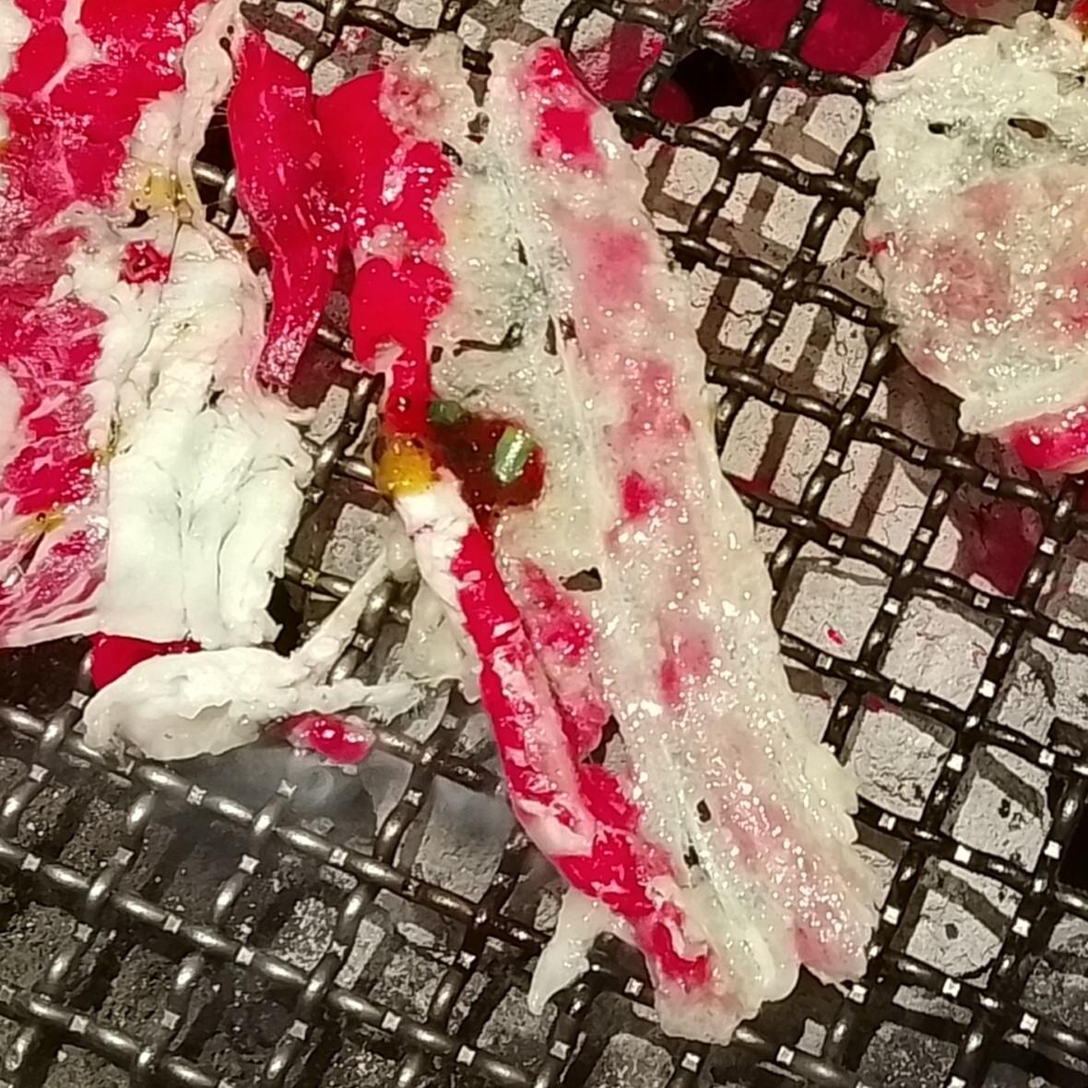Undercooked: (231, 31, 878, 1042), (0, 0, 377, 761), (863, 13, 1087, 479)
